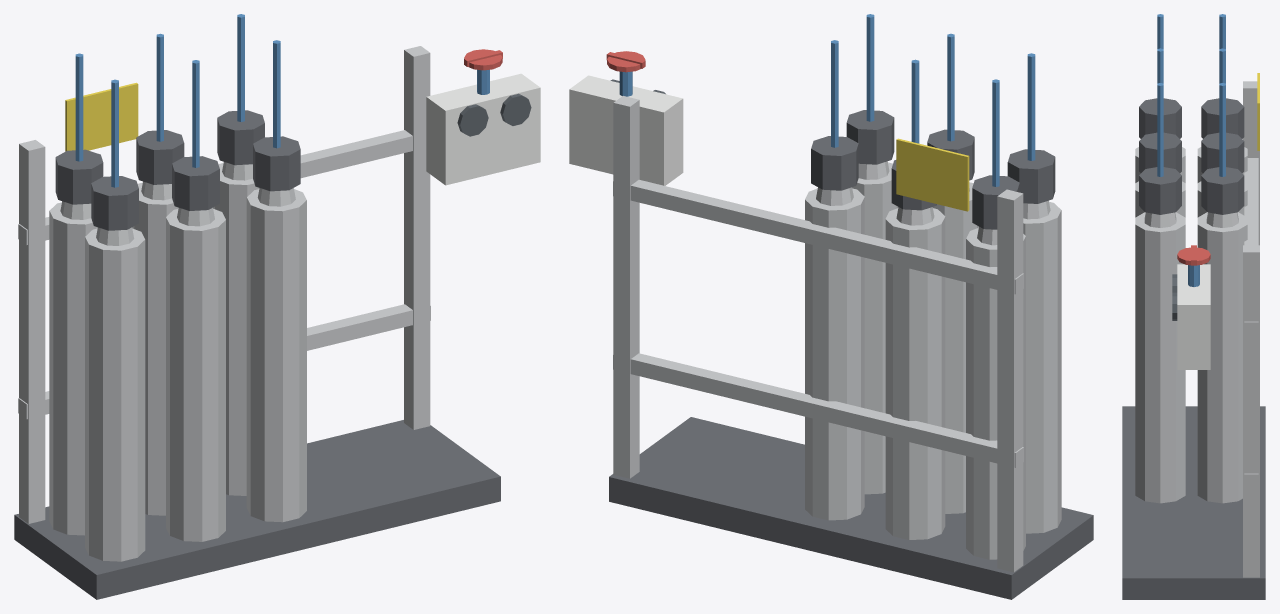
Rendered from vertical-farm-and-hydroponics-tower-vertical-farm-and--c375a975__38375.glb.
The picture shows the model from 3 angles, left to right: view 1: azimuth 30°, elevation 25°; view 2: azimuth 150°, elevation 25°; view 3: azimuth 270°, elevation 25°; orthographic projection. The views are drawn at different scales.
Visible parts, largest first — view 1: vertical-farm-and-hydroponics-tower-co2-tank-rack, handwheel-co2/red; view 2: vertical-farm-and-hydroponics-tower-co2-tank-rack, handwheel-co2/red; view 3: vertical-farm-and-hydroponics-tower-co2-tank-rack, handwheel-co2/red.
Boxes of the visible parts, left/top/right/bottom form: vertical-farm-and-hydroponics-tower-co2-tank-rack: left=14, top=14, right=540, bottom=599; handwheel-co2/red: left=464, top=49, right=502, bottom=70; vertical-farm-and-hydroponics-tower-co2-tank-rack: left=569, top=14, right=1093, bottom=599; handwheel-co2/red: left=606, top=51, right=645, bottom=72; vertical-farm-and-hydroponics-tower-co2-tank-rack: left=1122, top=14, right=1265, bottom=599; handwheel-co2/red: left=1177, top=245, right=1210, bottom=265.
Size of the model in its own units: 2 by 1.98 by 0.6.
